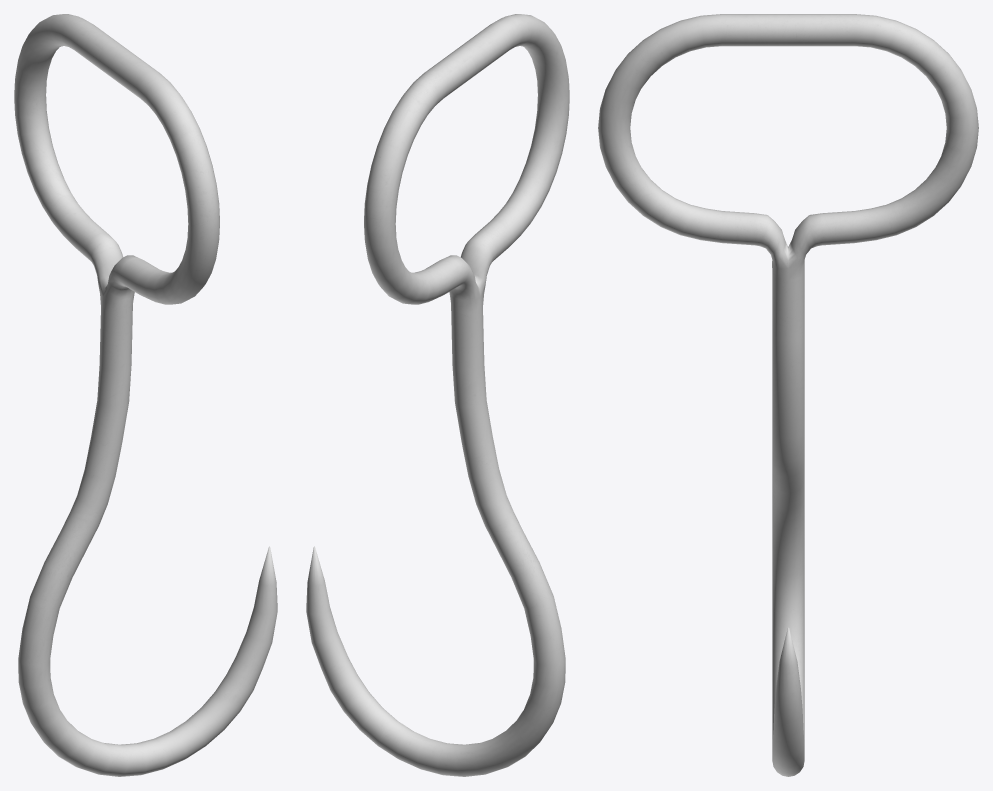
The model's file is cc0_-_meat_hook_5.glb.
3 renders of one model, left to right at view 1: azimuth 30°, elevation 25°; view 2: azimuth 150°, elevation 25°; view 3: azimuth 270°, elevation 25°, orthographic.
Visible parts, largest first — view 1: MeatHook5; view 2: MeatHook5; view 3: MeatHook5.
Boxes of the visible parts, x1,y1,x2,y2 form: MeatHook5: (14, 14, 277, 776); MeatHook5: (306, 14, 569, 776); MeatHook5: (598, 14, 978, 776).
Size of the model in its own units: 0.0768 by 0.2098 by 0.0988.
Materials: 1 (1 with a texture image).
